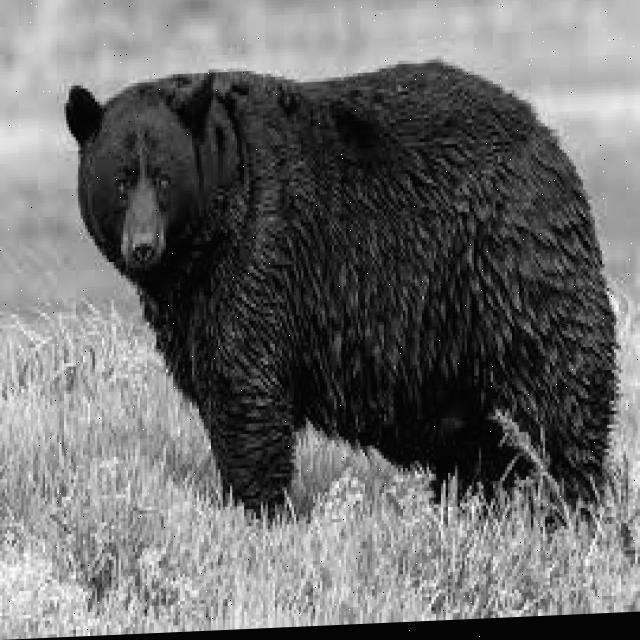Bear: (51, 50, 614, 541)
